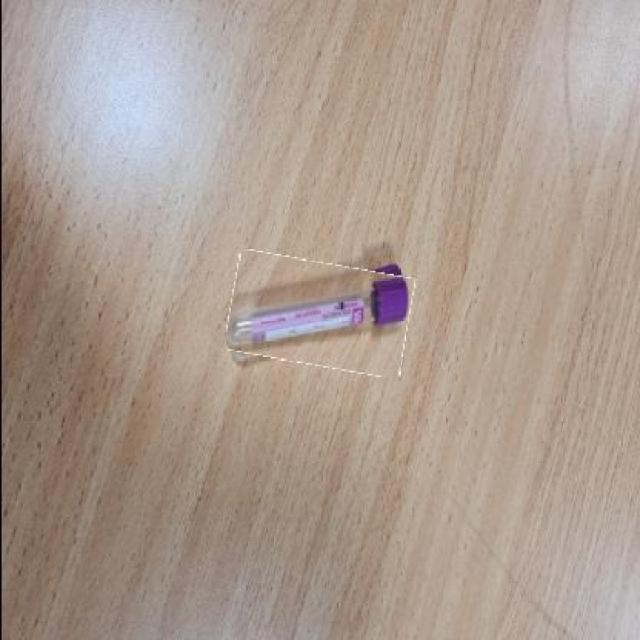Experimental-tube: (225, 256, 410, 372)
